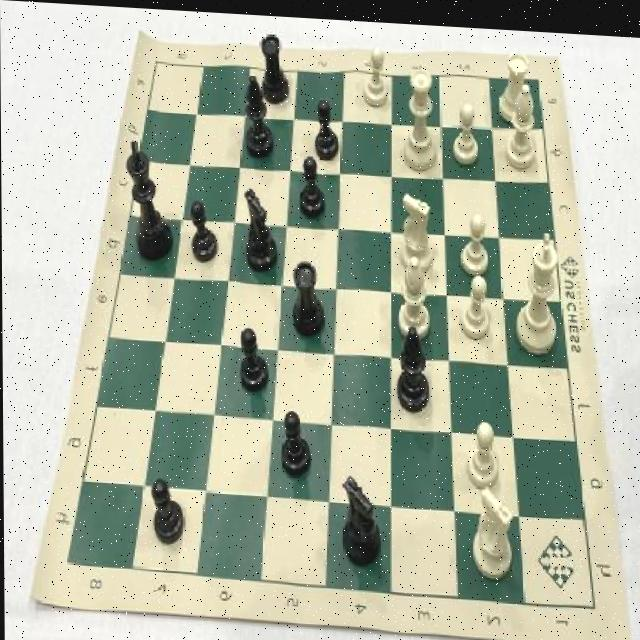bishop: (393, 315, 438, 413), (241, 65, 275, 163)
black-bishop: (125, 134, 175, 265)
black-king: (340, 463, 383, 568), (242, 182, 278, 276)
black-knight: (147, 467, 188, 548), (276, 400, 314, 475), (187, 193, 221, 265), (236, 319, 268, 395), (294, 151, 329, 218), (310, 90, 343, 161)
black-queen: (287, 247, 326, 337), (258, 21, 295, 105)
black-rook: (499, 74, 544, 168), (394, 249, 431, 339)
white-bishop: (511, 218, 562, 350)
white-king: (467, 474, 514, 580), (398, 183, 437, 272)
white-knight: (463, 412, 501, 488), (458, 265, 493, 338), (360, 37, 393, 108), (448, 95, 481, 163), (459, 206, 491, 272)
white-pawn: (399, 57, 436, 172)
white-queen: (496, 43, 533, 123)
